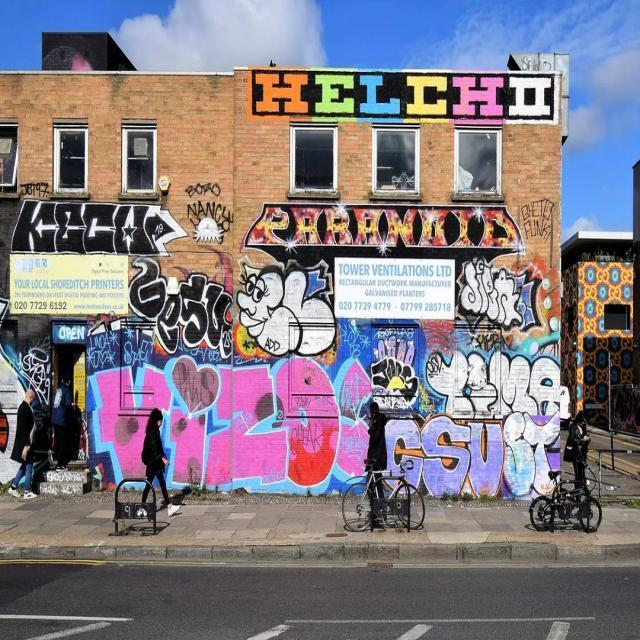-: (89, 362, 340, 496), (243, 61, 562, 132), (380, 416, 560, 504), (6, 194, 190, 264), (126, 250, 235, 364), (239, 206, 516, 250), (424, 341, 570, 423), (235, 268, 336, 360), (454, 256, 540, 336), (520, 197, 558, 248), (184, 184, 233, 223), (17, 180, 54, 200)
